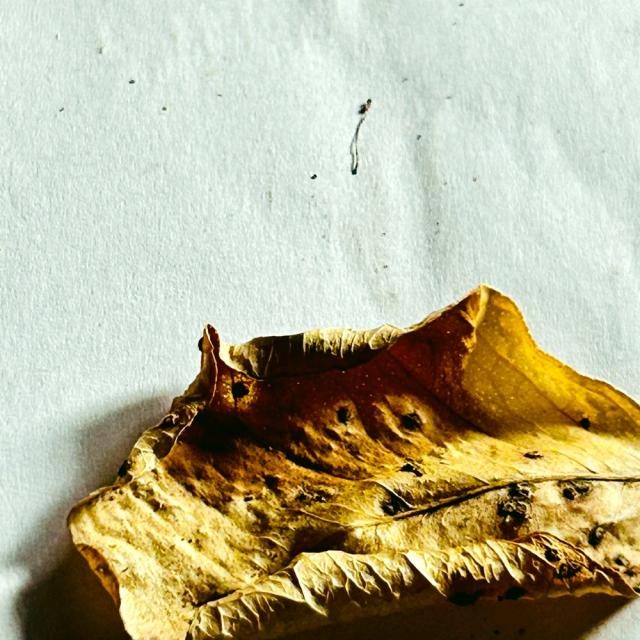DryLeaf_Lemon: (68, 286, 639, 639)
